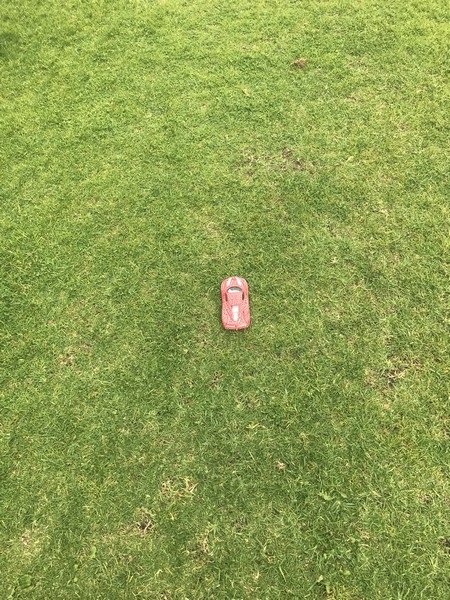RC: (218, 275, 253, 333)
